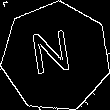N_S: (32, 29, 79, 85)
